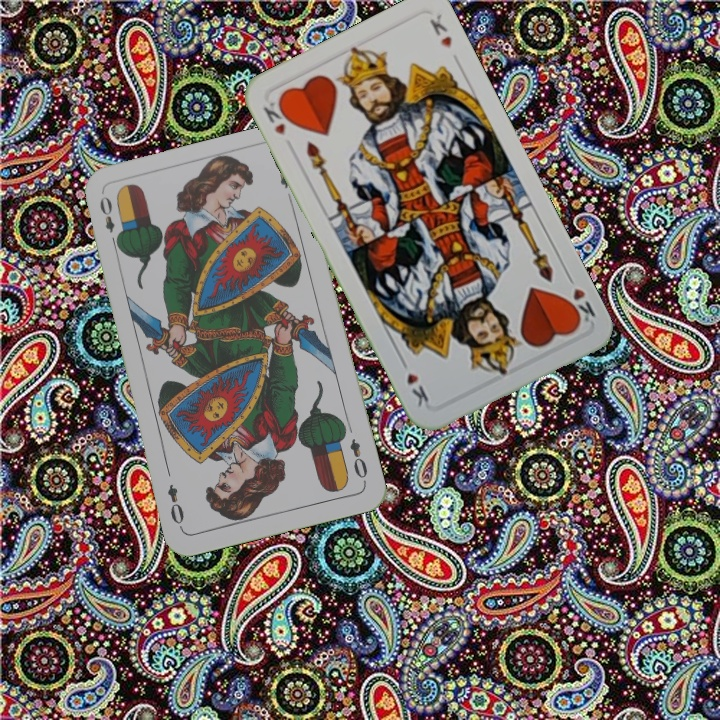EO: (95, 192, 122, 250), (346, 434, 370, 486)
HK: (561, 269, 598, 327), (259, 95, 294, 138)
